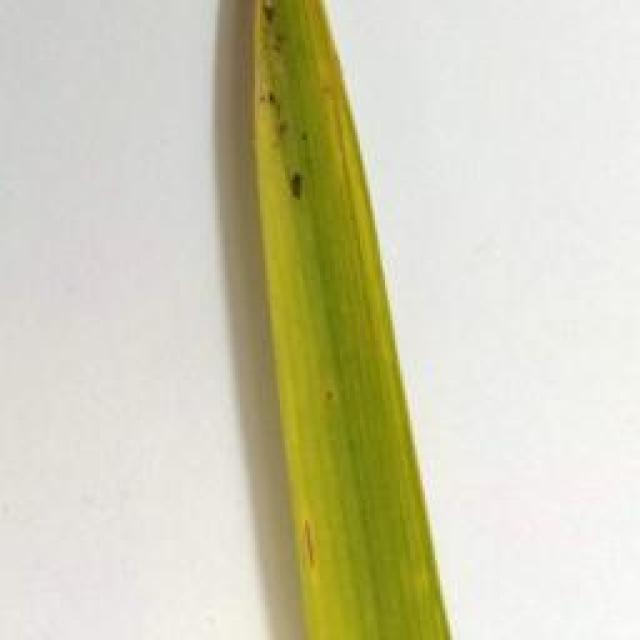Brown_Spot: (276, 153, 322, 220), (255, 112, 318, 148), (254, 70, 286, 113), (250, 0, 285, 30), (318, 387, 339, 410), (303, 529, 315, 564)
